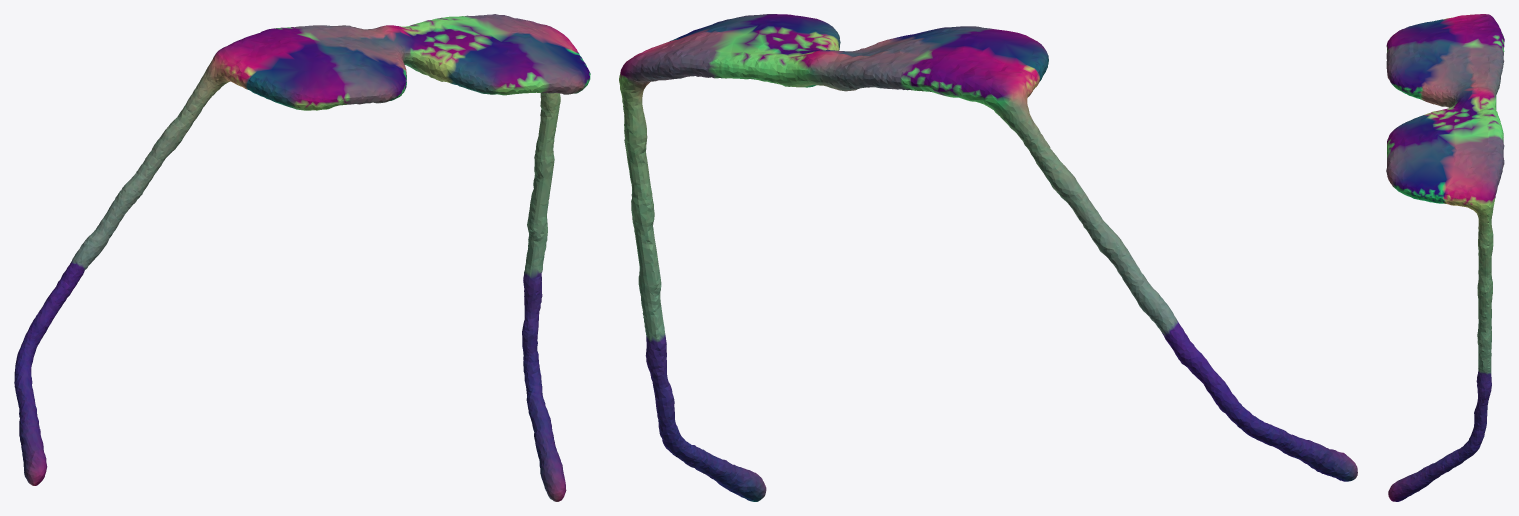
File: glasses-2.off.obj
The picture shows the model from 3 angles, left to right: view 1: azimuth 30°, elevation 25°; view 2: azimuth 150°, elevation 25°; view 3: azimuth 270°, elevation 25°; orthographic projection. The views are drawn at different scales.
Bounding box in the file's own units: 1.19 × 0.9244 × 0.2583.
